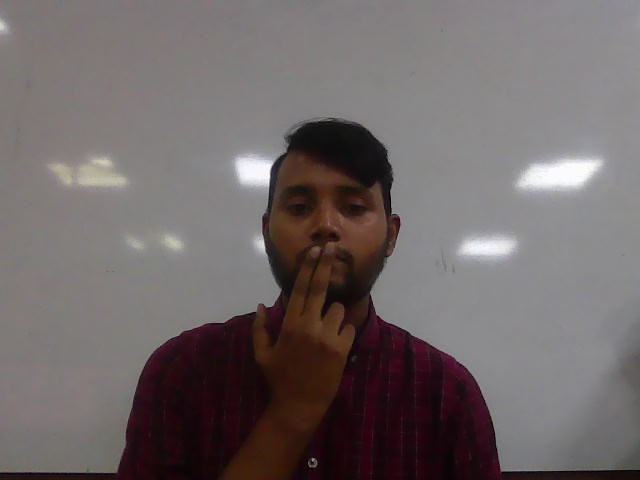Bak: (250, 242, 357, 431)
